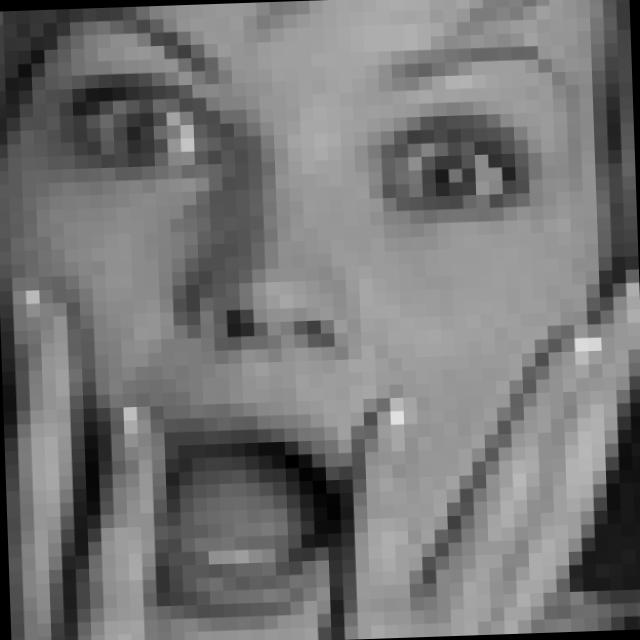fear: (42, 0, 604, 627)
